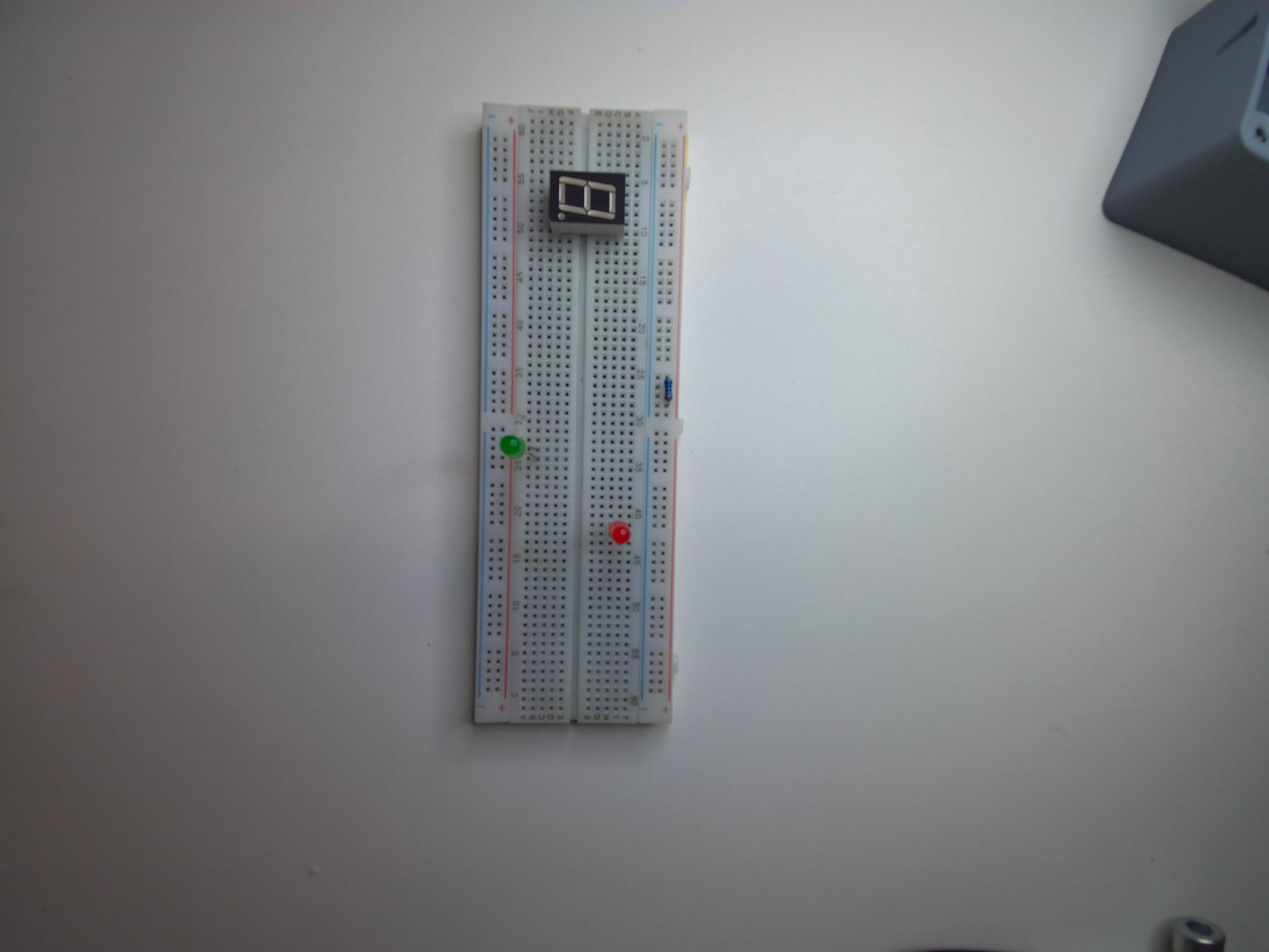base: (471, 103, 694, 736)
digit-board: (542, 166, 626, 240)
green-led: (497, 431, 529, 468)
red-led: (603, 516, 635, 547)
resistor-small: (663, 372, 674, 404)
